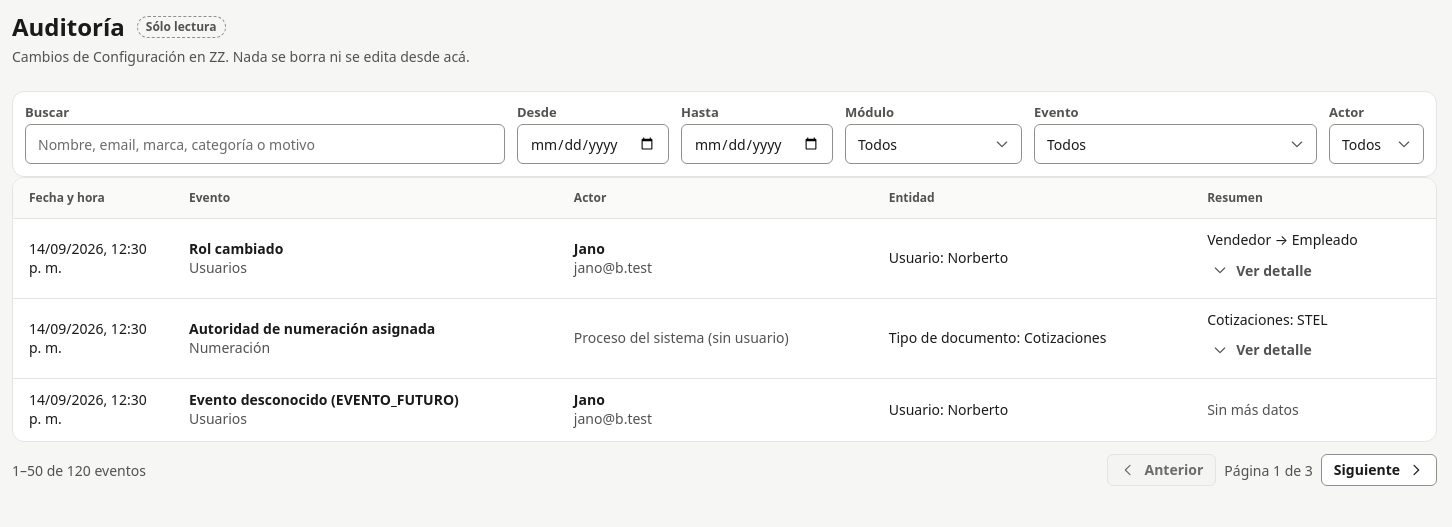
Test case: Auditoría › rango de fechas al revés: aviso asociado y no se envía
Type "2026-09-14" into the date field labelled "Desde" at (593, 144), box [517,124,669,164]
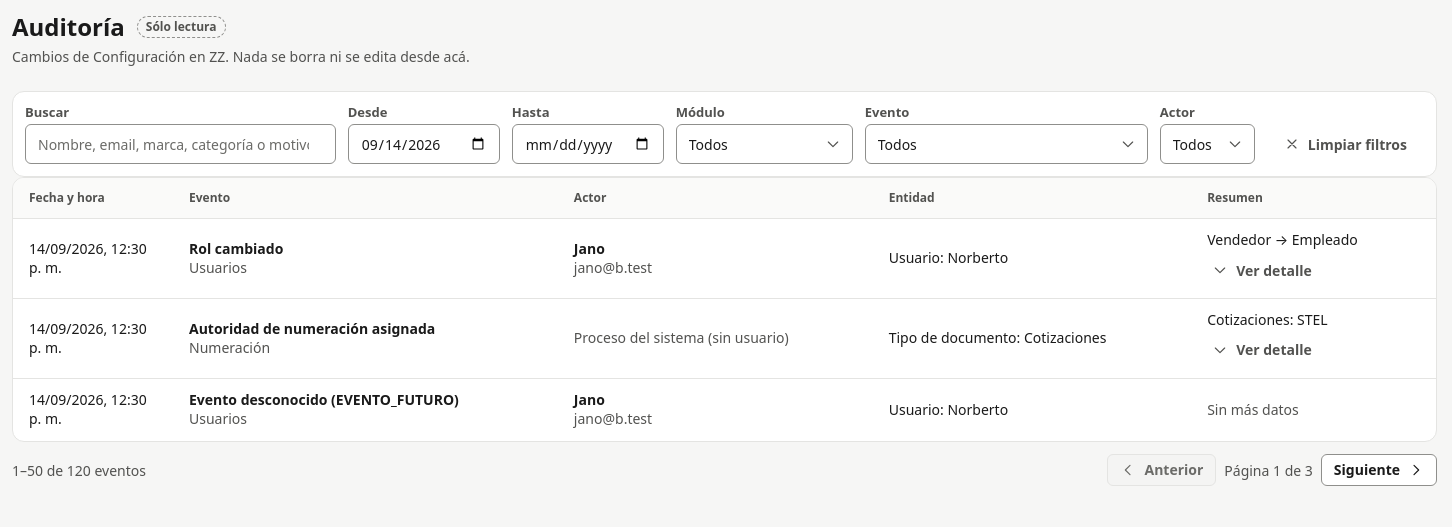
Type "2026-09-01" into the date field labelled "Hasta" at (588, 144), box [512,124,664,164]
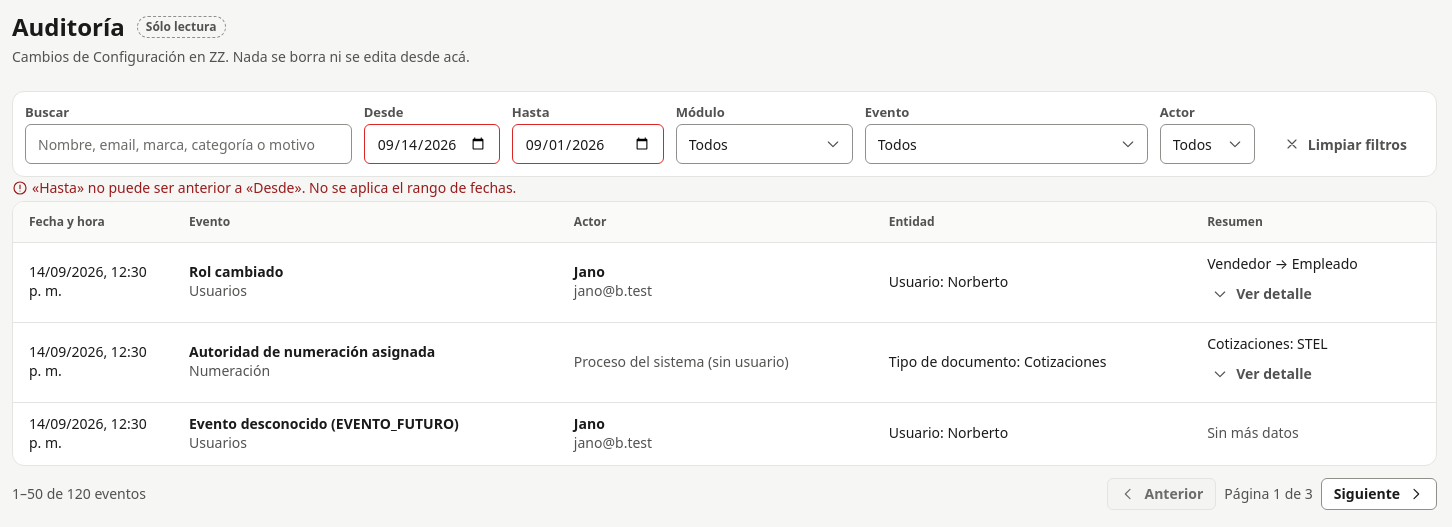
Check: the message shows "«Hasta» no puede ser anterior a «Desde».", box [32,178,305,197]
